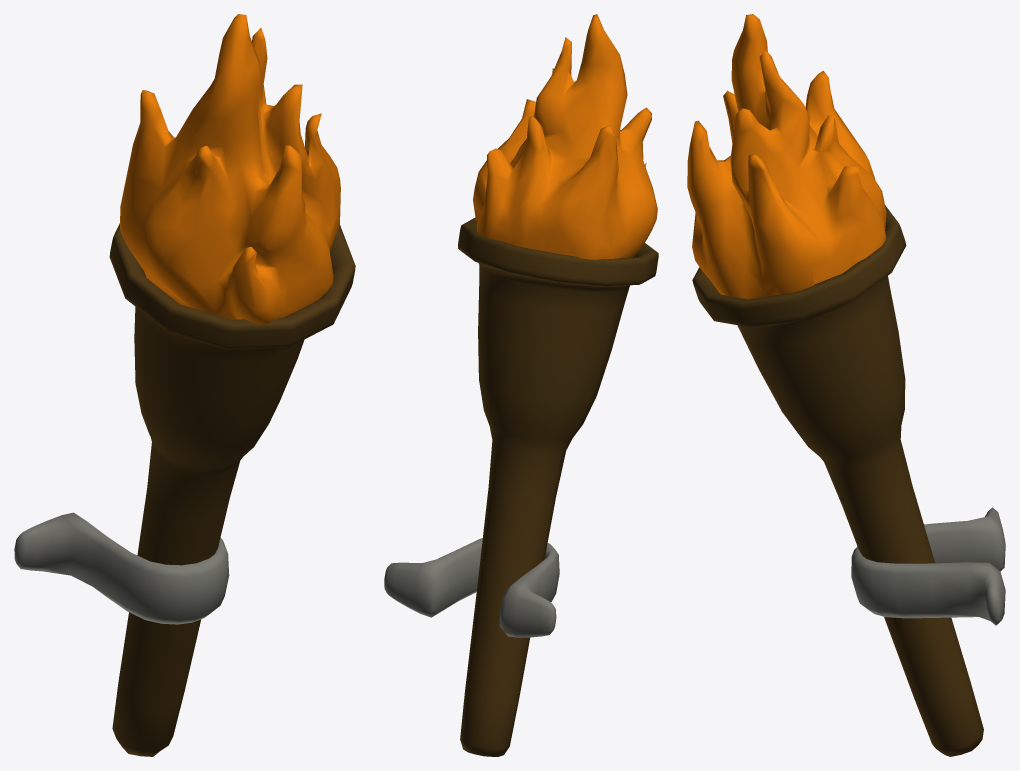
The model's file is soihtu.fbx.
3 views of the same model, side by side, from view 1: azimuth 30°, elevation 25°; view 2: azimuth 150°, elevation 25°; view 3: azimuth 270°, elevation 25° (orthographic). The views are drawn at different scales.
Parts seen in each view (by area): view 1: tulihp.002, keppihp.002, pidikehp.002; view 2: keppihp.002, tulihp.002, pidikehp.002; view 3: keppihp.002, tulihp.002, pidikehp.002.
Part boxes in pixels (bbox=[...]): tulihp.002: bbox=[120, 14, 340, 324]; keppihp.002: bbox=[109, 223, 355, 756]; pidikehp.002: bbox=[14, 512, 229, 624]; keppihp.002: bbox=[458, 217, 658, 756]; tulihp.002: bbox=[473, 14, 657, 259]; pidikehp.002: bbox=[384, 538, 559, 637]; keppihp.002: bbox=[692, 205, 983, 756]; tulihp.002: bbox=[687, 14, 886, 299]; pidikehp.002: bbox=[851, 507, 1005, 625].
Bounding box in the file's own units: 0.0923 × 0.3425 × 0.1355.
